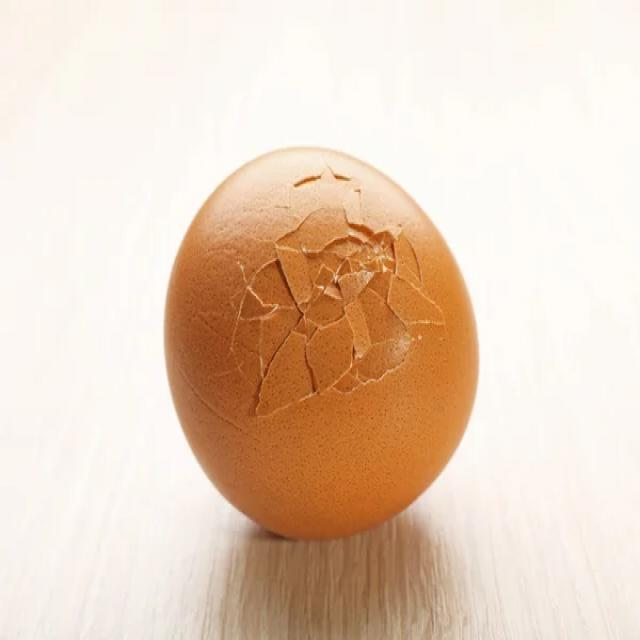biodegradable: (144, 128, 507, 557)
